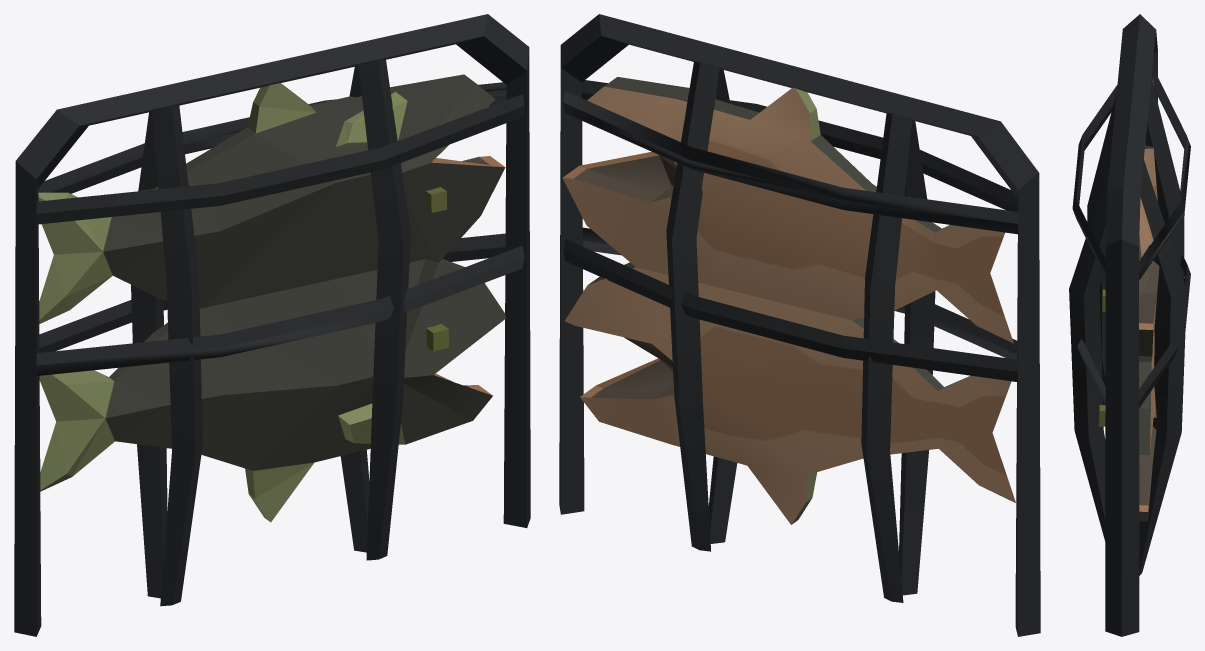
File: SM_Prop_FirePit_Fish_01.fbx
3 renders of one model, left to right at view 1: azimuth 30°, elevation 25°; view 2: azimuth 150°, elevation 25°; view 3: azimuth 270°, elevation 25°, orthographic. The views are drawn at different scales.
Parts seen in each view (by area): view 1: SM_Prop_FirePit_Fish_01; view 2: SM_Prop_FirePit_Fish_01; view 3: SM_Prop_FirePit_Fish_01.
Boxes of the visible parts, x1,y1,x2,y2 form: SM_Prop_FirePit_Fish_01: (14, 14, 530, 636); SM_Prop_FirePit_Fish_01: (559, 14, 1040, 636); SM_Prop_FirePit_Fish_01: (1069, 14, 1190, 636).
Size of the model in its own units: 56.69 by 55.08 by 14.07.
